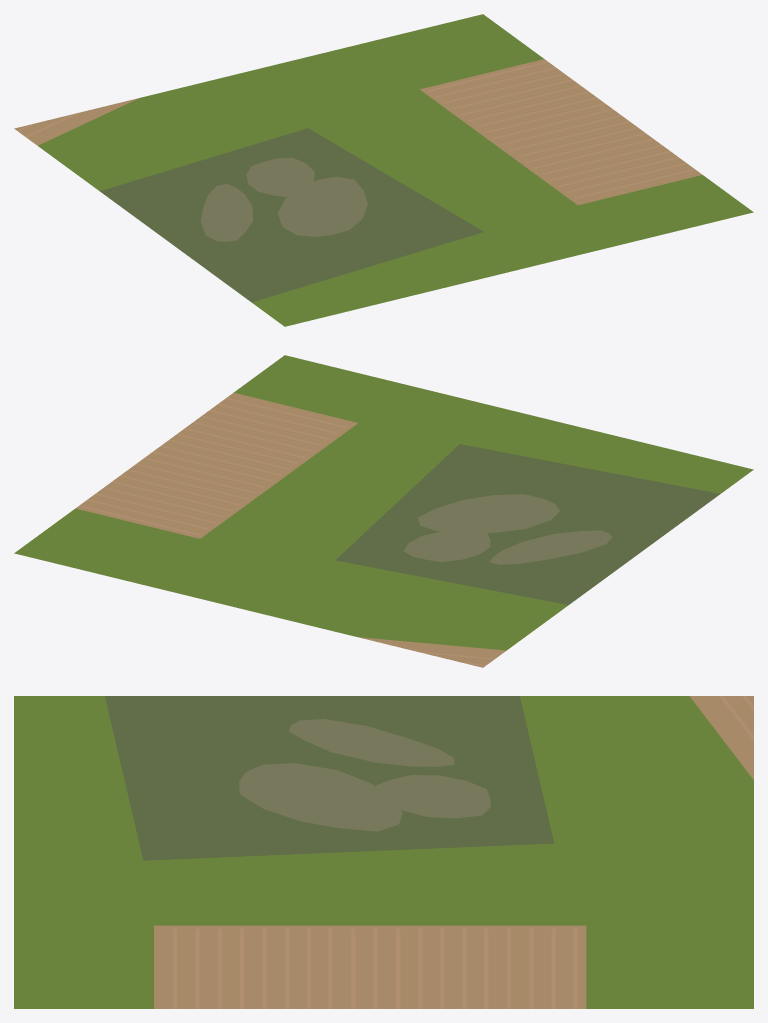
The model's file is crossing-2-7.glb.
3 views of the same model, one above another, from view 1: azimuth 30°, elevation 25°; view 2: azimuth 150°, elevation 25°; view 3: azimuth 270°, elevation 25° (orthographic). The views are drawn at different scales.
Parts seen in each view (by area): view 1: crossing-2-7; view 2: crossing-2-7; view 3: crossing-2-7.
Part boxes in pixels (<box>): crossing-2-7: <box>14,14,753,326</box>; crossing-2-7: <box>14,355,753,667</box>; crossing-2-7: <box>14,696,753,1008</box>.
Bounding box in the file's own units: 100 × 0.0064 × 100.
